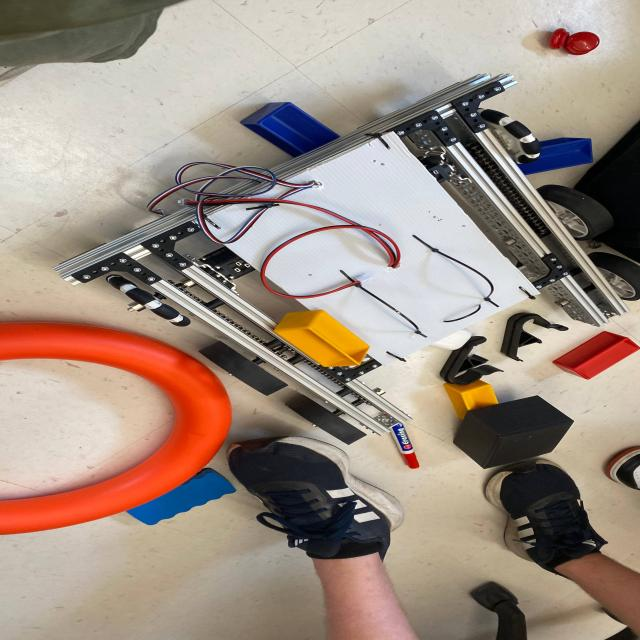blue-specimen: (240, 102, 339, 157), (515, 138, 593, 175)
red-specimen: (553, 331, 640, 379)
yellow-specimen: (273, 310, 369, 367), (444, 380, 498, 419)
